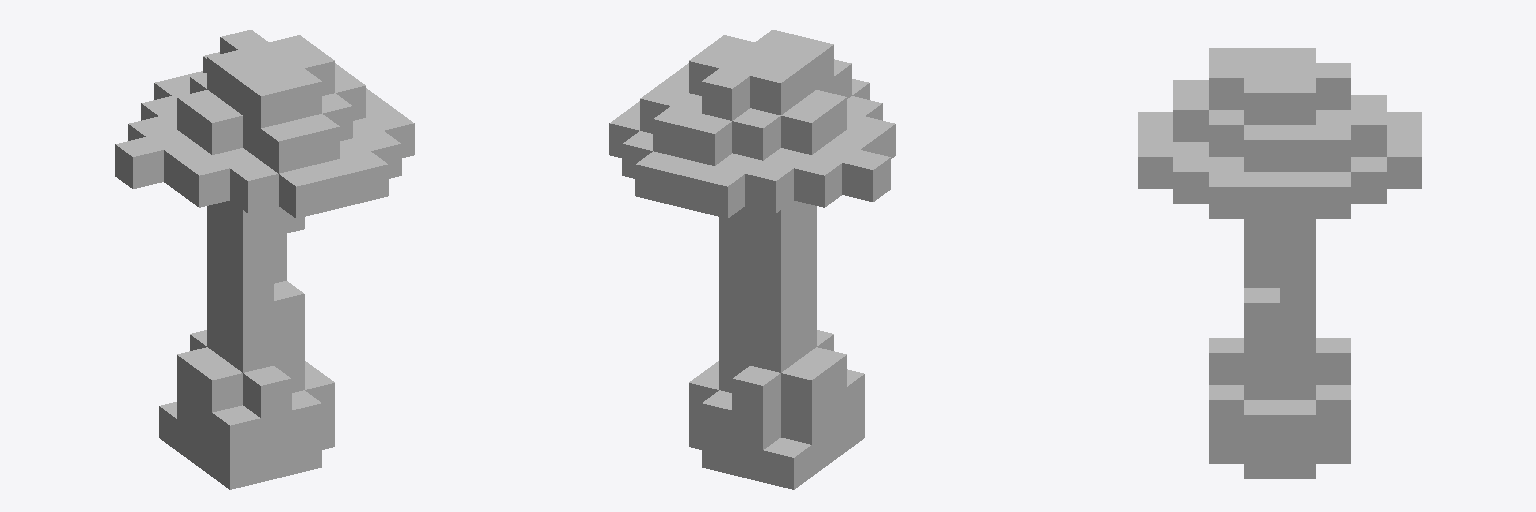
Rendered from mashroom.obj.
3 views of the same model, side by side, from view 1: azimuth 30°, elevation 25°; view 2: azimuth 150°, elevation 25°; view 3: azimuth 270°, elevation 25° (orthographic).
Visible parts, largest first — view 1: model; view 2: model; view 3: model.
Part boxes in pixels (x1,y1,x2,y2): model: (115, 30, 414, 489); model: (609, 30, 895, 489); model: (1138, 48, 1421, 478).
Bounding box in the file's own units: 0.8 × 1.2 × 0.8.